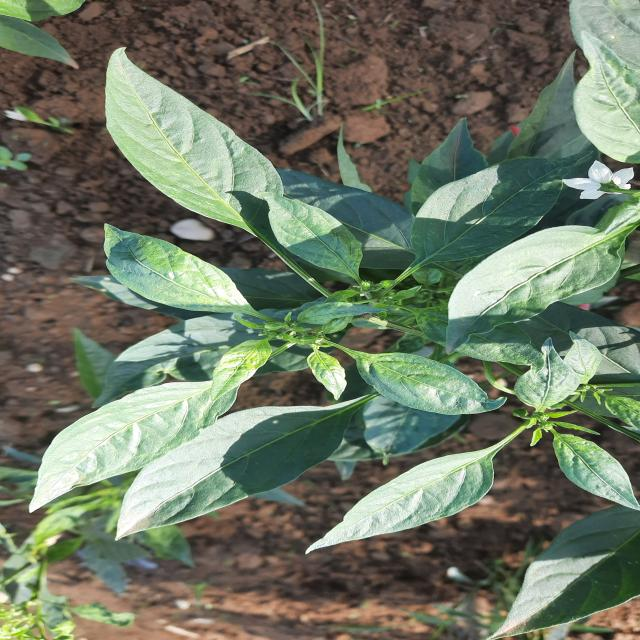sehat: (96, 49, 318, 252), (108, 400, 401, 538), (23, 369, 259, 508), (296, 448, 512, 557)
